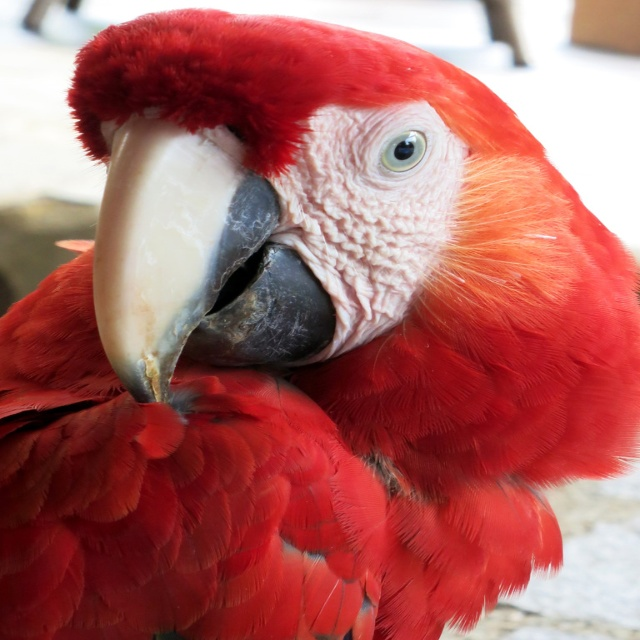Parrot: (0, 4, 639, 640)
